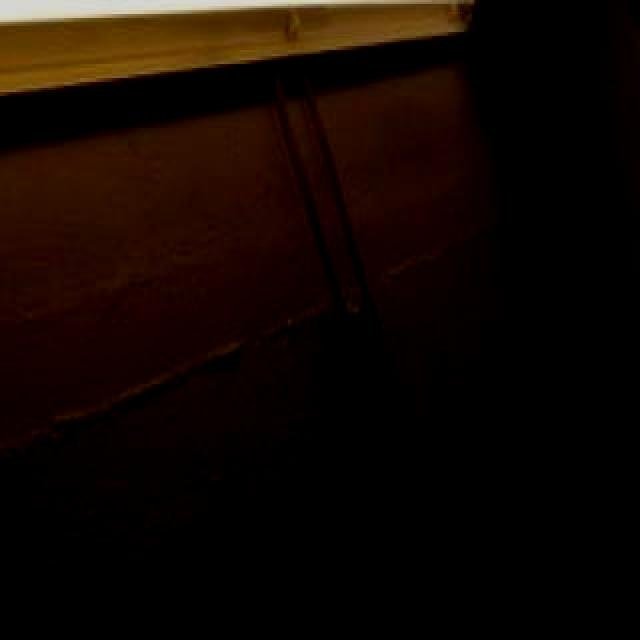fluorescent tube: (0, 0, 498, 58)
